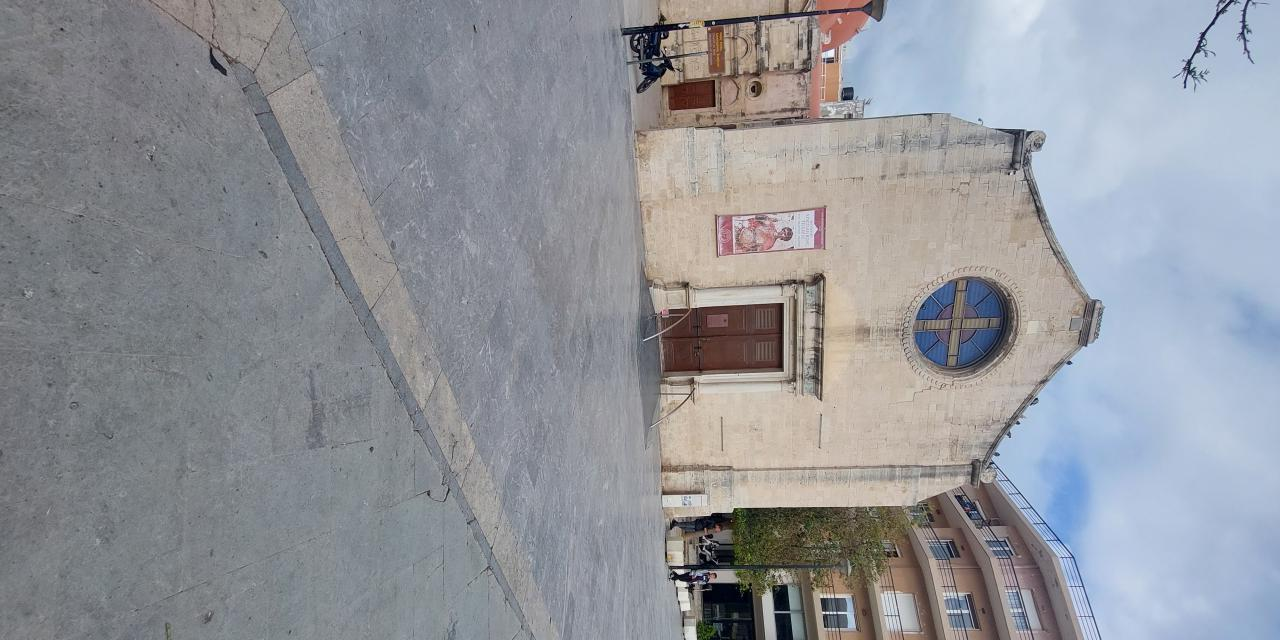Agia Aikaterini: (651, 116, 1112, 530)
